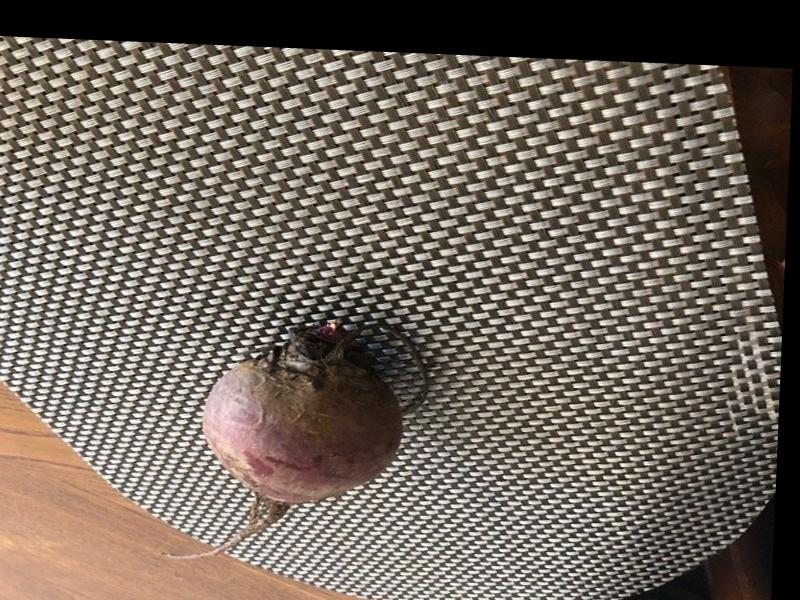Beet: (164, 312, 433, 569)
